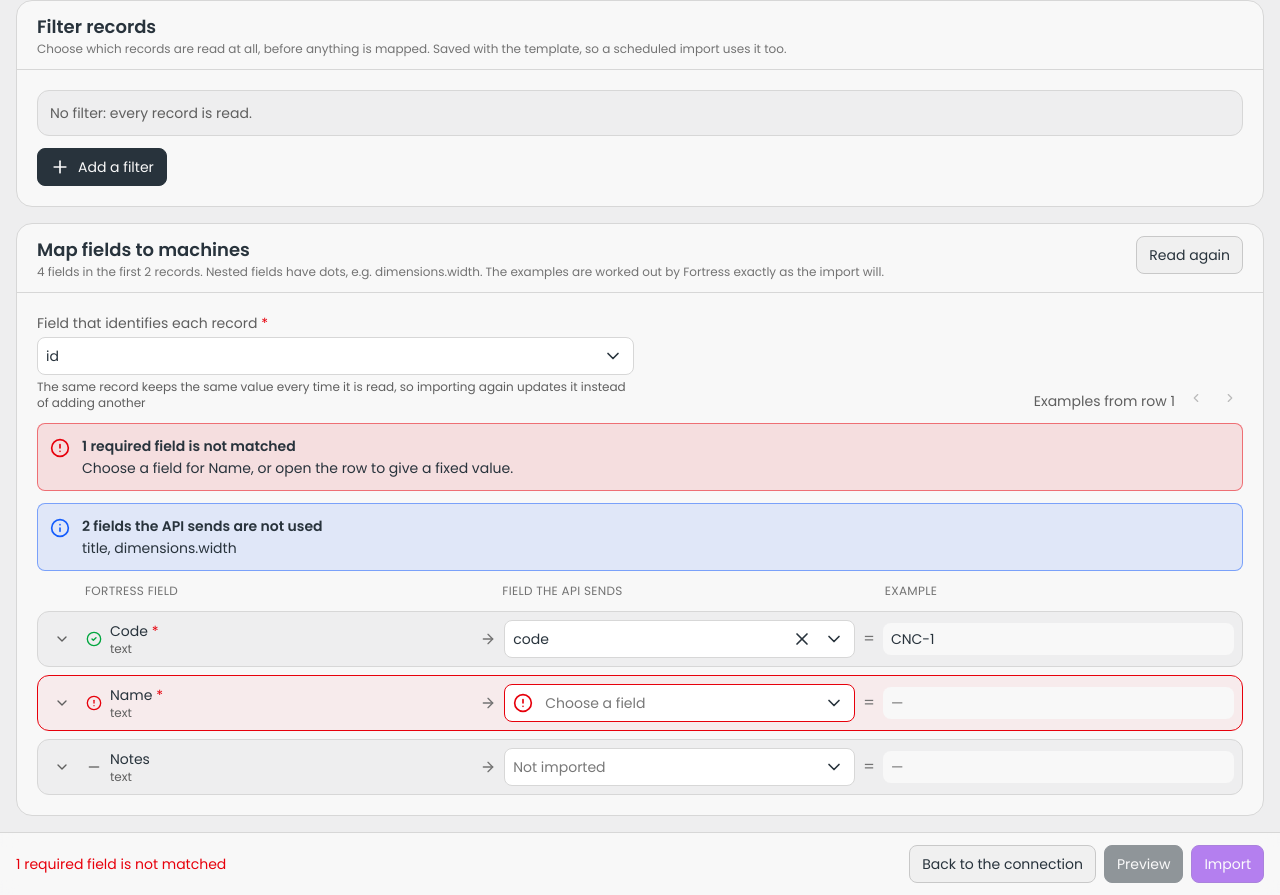
Test: mapping an API connection's fields › reads the API's first page, matches fields by name, shows the server's examples, then saves a new template and imports with it
This screenshot has width=1280, height=895.
Later steps or results of the test are not shown.
(page scrolled)
Check: the dropdown named "API field for Code" holds "code", box [513, 628, 778, 650]
Check: the text "4 fields in the first 2 records" is shown, box [37, 263, 884, 280]
What coordinates should you click on to do the following:
click the dropdown named "API field for Name"
I would click on:
 (678, 703)
Its box is [545, 692, 810, 714].
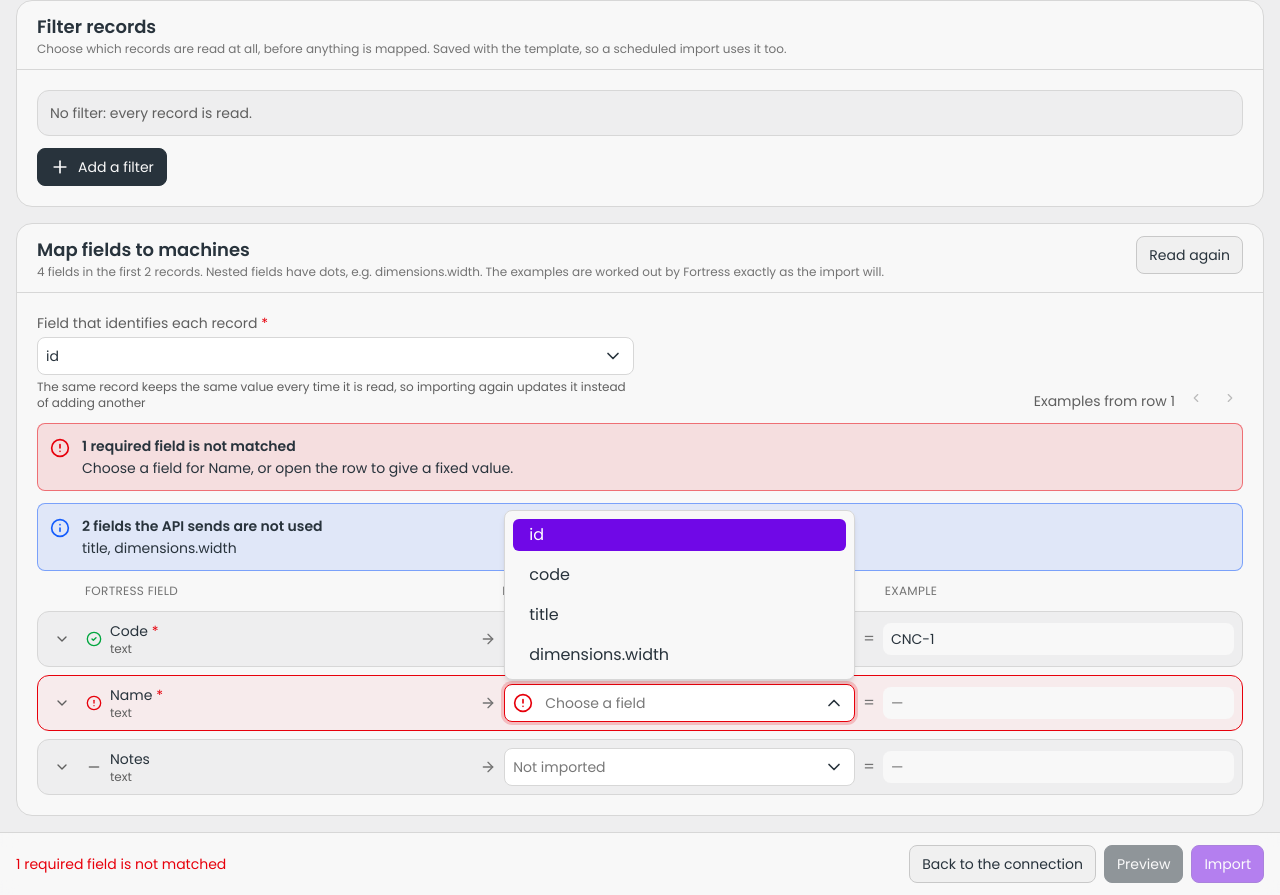
What coordinates should you click on to do the following:
click the option "title"
I would click on:
 (544, 614)
Its box is [529, 603, 559, 626].
(page scrolled)
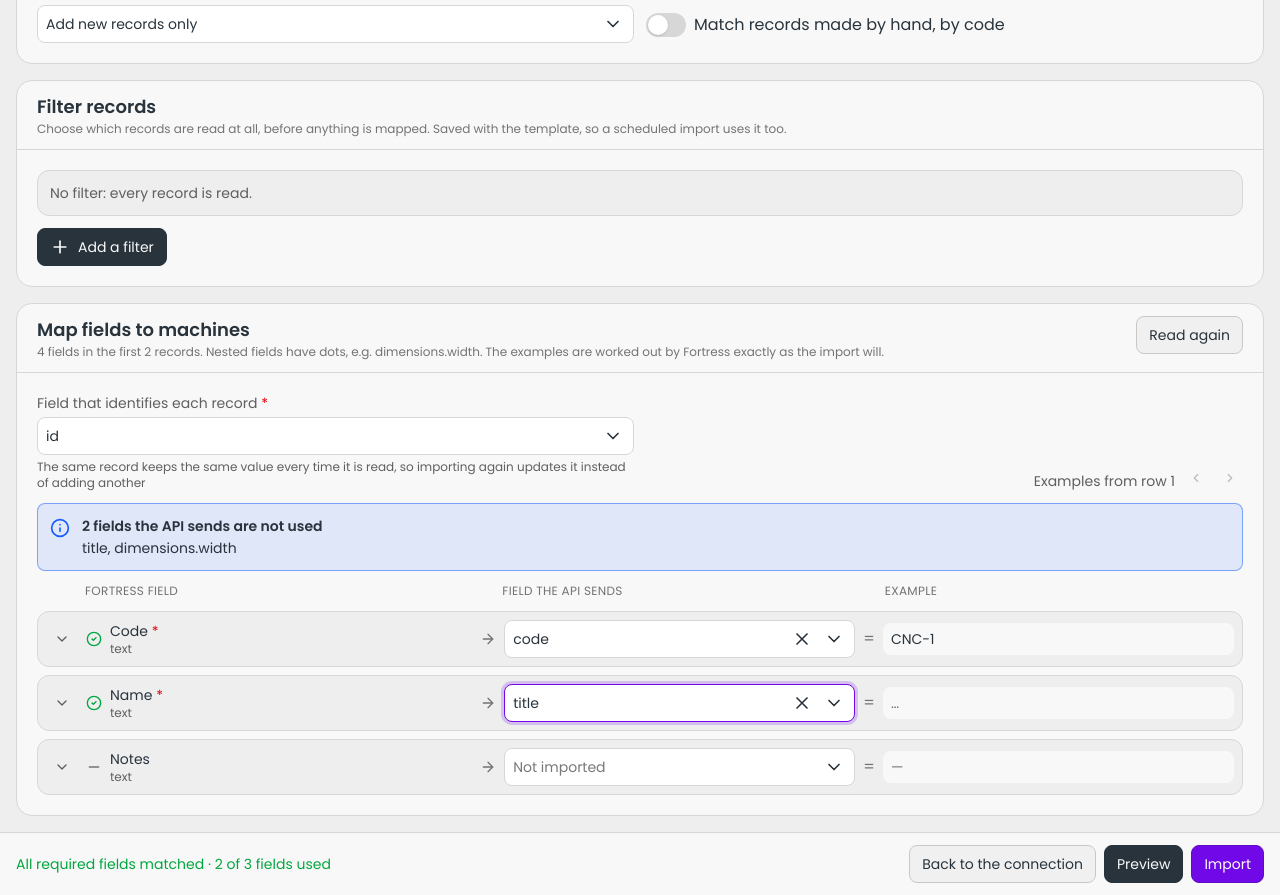
What coordinates should you click on to do the following:
click the button "Import"
I would click on:
 (1228, 864)
Its box is [1191, 845, 1264, 883].
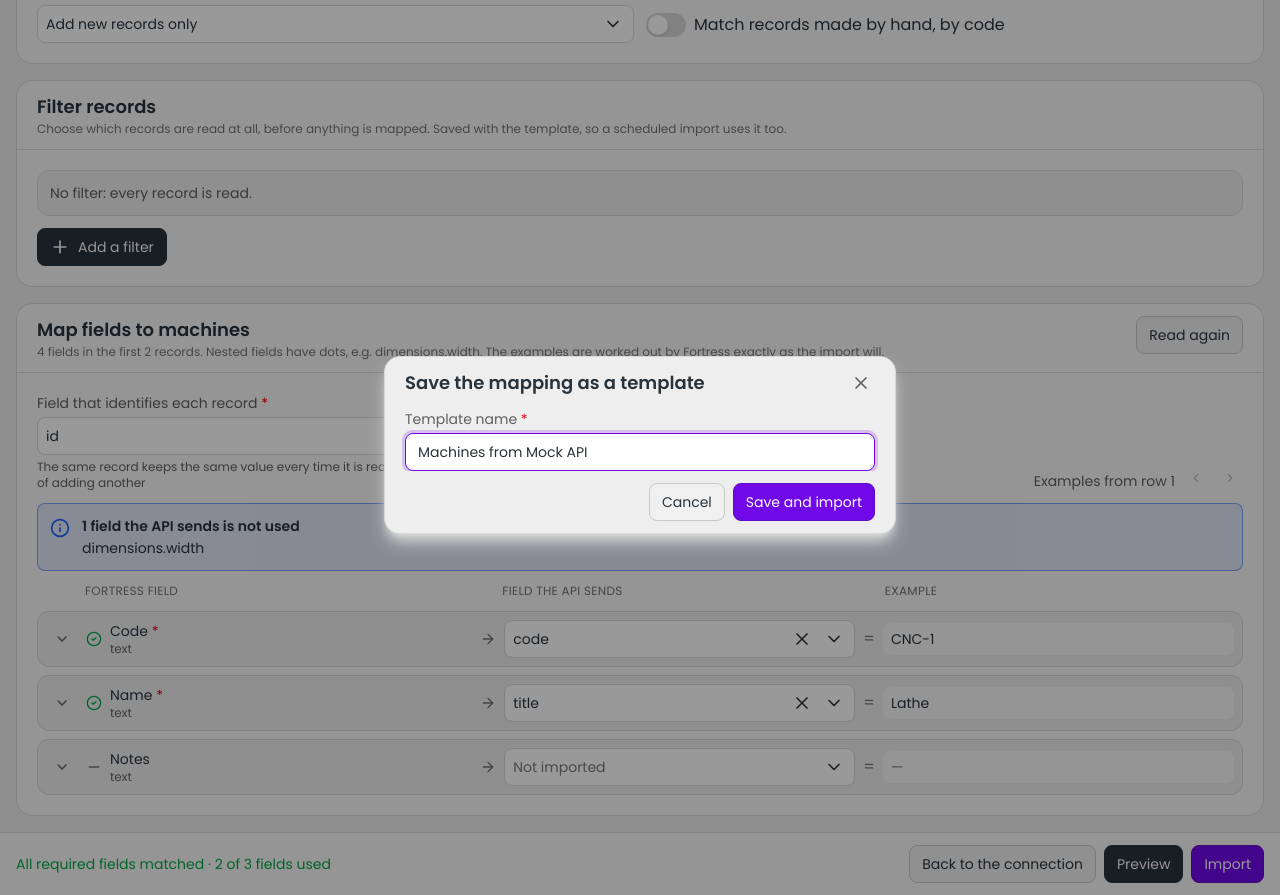
Check: the field labelled "Template name" holds "Machines from Mock API", box [405, 433, 875, 471]
